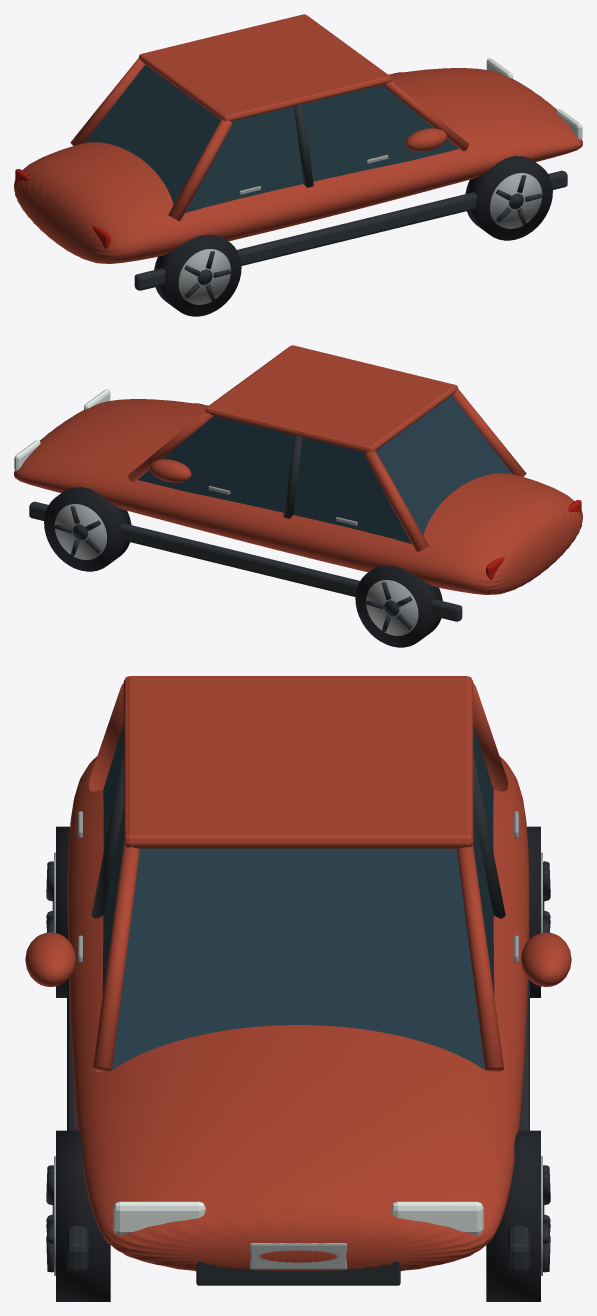
The model's file is compact_sedan.glb.
3 views of the same model, one above another, from view 1: azimuth 30°, elevation 25°; view 2: azimuth 150°, elevation 25°; view 3: azimuth 270°, elevation 25° (orthographic). The views are drawn at different scales.
Visible parts, largest first — view 1: Coachwork, GlazedCabin, Roof, Sill.001, Tyre.003, Tyre.002, WheelRim.003, WheelRim.002, RearPillar.001, RearPillar, A_Pillar.001, B_Pillar.001 (+1 smaller); view 2: Coachwork, GlazedCabin, Roof, Sill, Tyre.001, Tyre, WheelRim.001, WheelRim, RearPillar, RearPillar.001, A_Pillar, B_Pillar (+1 smaller); view 3: Coachwork, GlazedCabin, Roof, Tyre.003, Tyre.001, A_Pillar, A_Pillar.001, Grille, Headlight, Headlight.001, Mirror, Mirror.001 (+9 smaller).
Boxes of the visible parts, left/top/right/bottom form: Coachwork: left=14, top=68, right=582, bottom=263; GlazedCabin: left=84, top=64, right=458, bottom=212; Roof: left=139, top=14, right=391, bottom=121; Sill.001: left=134, top=170, right=567, bottom=290; Tyre.003: left=465, top=156, right=552, bottom=240; Tyre.002: left=154, top=234, right=241, bottom=316; WheelRim.003: left=490, top=173, right=542, bottom=228; WheelRim.002: left=178, top=249, right=230, bottom=304; RearPillar.001: left=168, top=119, right=232, bottom=221; RearPillar: left=70, top=58, right=144, bottom=145; A_Pillar.001: left=383, top=81, right=468, bottom=151; B_Pillar.001: left=294, top=103, right=313, bottom=187; Coachwork: left=14, top=399, right=582, bottom=594; GlazedCabin: left=138, top=395, right=512, bottom=543; Roof: left=205, top=345, right=457, bottom=452; Sill: left=29, top=501, right=462, bottom=621; Tyre.001: left=44, top=487, right=131, bottom=571; Tyre: left=355, top=565, right=442, bottom=647; WheelRim.001: left=54, top=504, right=106, bottom=559; WheelRim: left=366, top=580, right=418, bottom=635; RearPillar: left=364, top=450, right=428, bottom=552; RearPillar.001: left=452, top=389, right=526, bottom=476; A_Pillar: left=128, top=412, right=213, bottom=482; B_Pillar: left=283, top=434, right=302, bottom=518; Coachwork: left=67, top=756, right=529, bottom=1271; GlazedCabin: left=102, top=725, right=494, bottom=1069; Roof: left=123, top=676, right=473, bottom=848; Tyre.003: left=56, top=1130, right=110, bottom=1301; Tyre.001: left=486, top=1130, right=540, bottom=1301; A_Pillar: left=457, top=844, right=503, bottom=1072; A_Pillar.001: left=93, top=844, right=139, bottom=1072; Grille: left=196, top=1261, right=400, bottom=1285; Headlight: left=391, top=1201, right=483, bottom=1235; Headlight.001: left=113, top=1201, right=205, bottom=1235; Mirror: left=521, top=932, right=571, bottom=986; Mirror.001: left=25, top=932, right=75, bottom=986.
Size of the model in its own units: 4.18 by 1.43 by 2.01.
